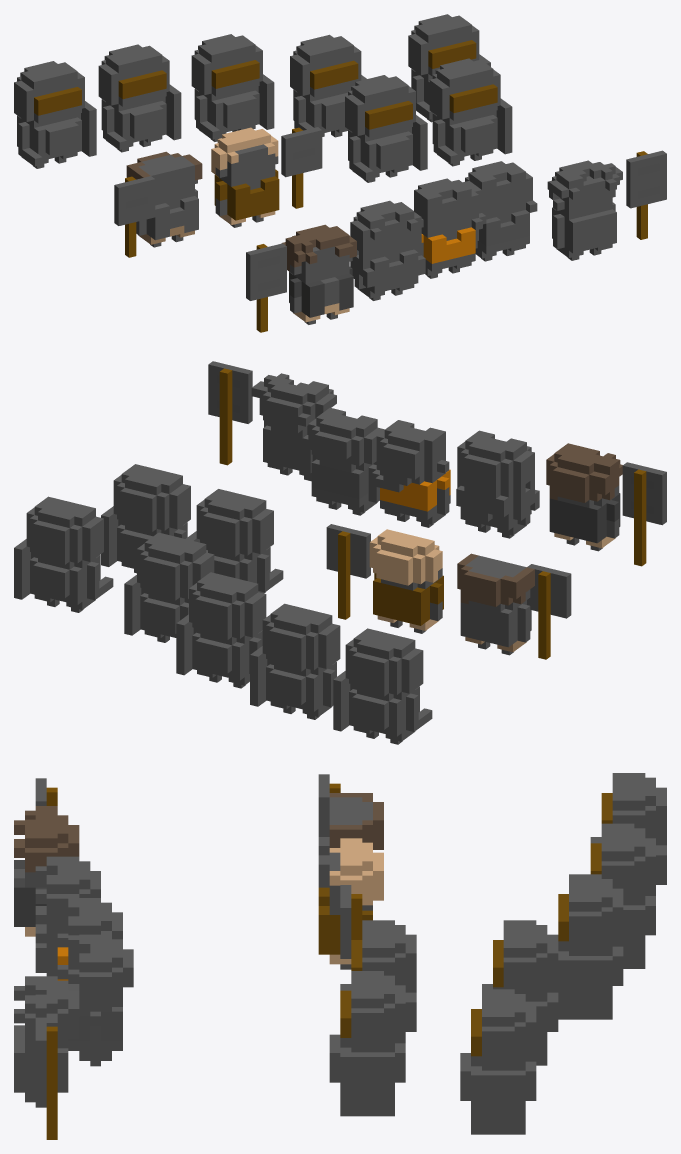
File: scene_protest.obj
The picture shows the model from 3 angles, top to bottom: view 1: azimuth 30°, elevation 25°; view 2: azimuth 150°, elevation 25°; view 3: azimuth 270°, elevation 25°; orthographic projection. The views are drawn at different scales.
Bounding box in the file's own units: 60 × 12 × 60.
